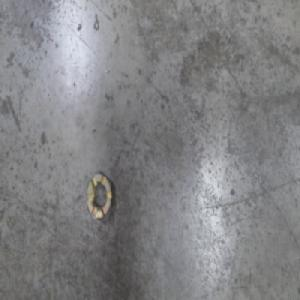Nut: (85, 171, 113, 222)
